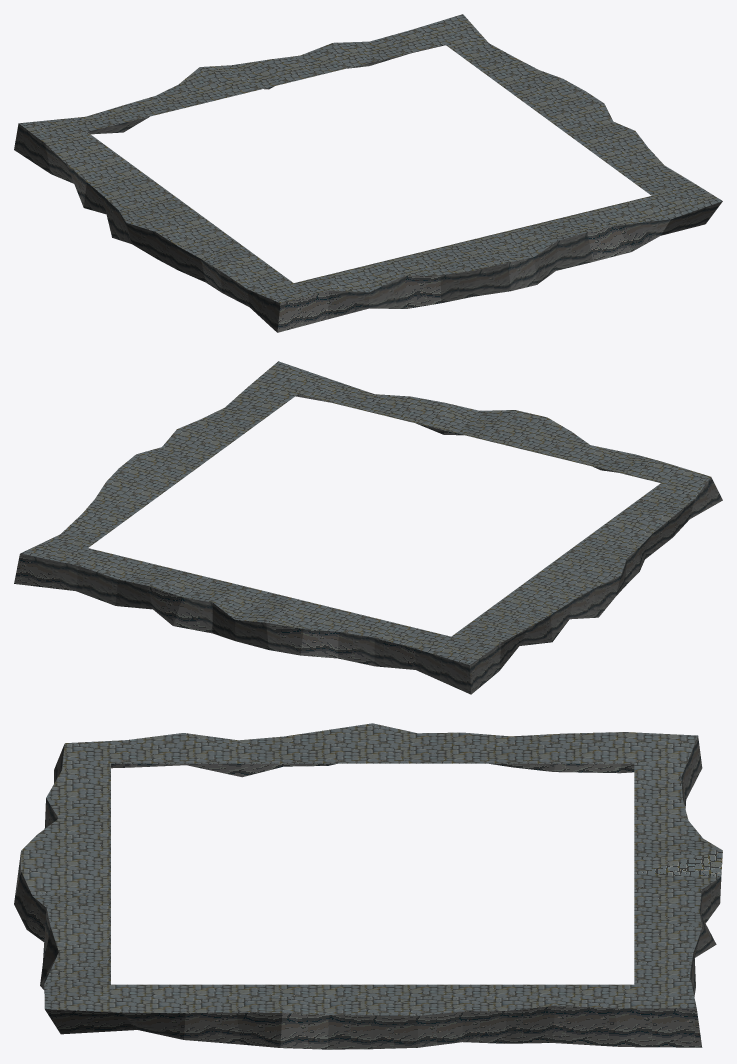
File: entorno.fbx
3 views of the same model, one above another, from view 1: azimuth 30°, elevation 25°; view 2: azimuth 150°, elevation 25°; view 3: azimuth 270°, elevation 25° (orthographic). The views are drawn at different scales.
Parts seen in each view (by area): view 1: pedreira_entorno; view 2: pedreira_entorno; view 3: pedreira_entorno.
Boxes of the visible parts, x1=… form: pedreira_entorno: x1=14, y1=14, x2=722, y2=332; pedreira_entorno: x1=14, y1=361, x2=722, y2=694; pedreira_entorno: x1=14, y1=723, x2=722, y2=1049.
Bounding box in the file's own units: 1631 × 106 × 1652.
Materials: 2 (2 with a texture image).
